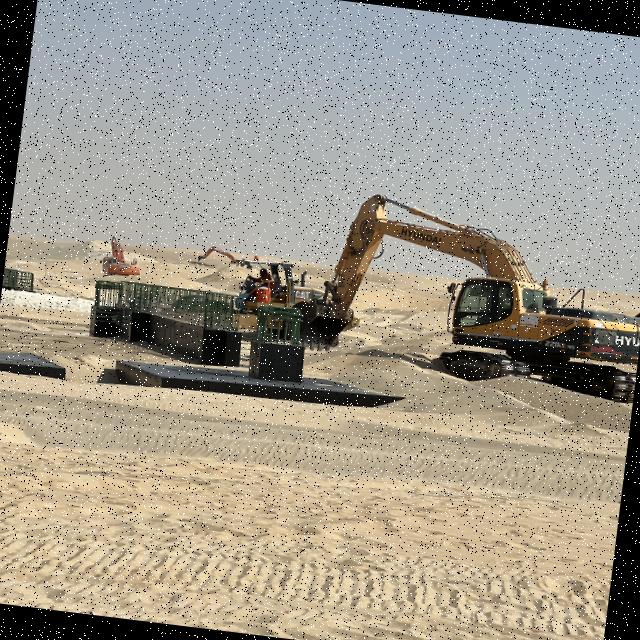Excavator: (275, 179, 640, 402)
